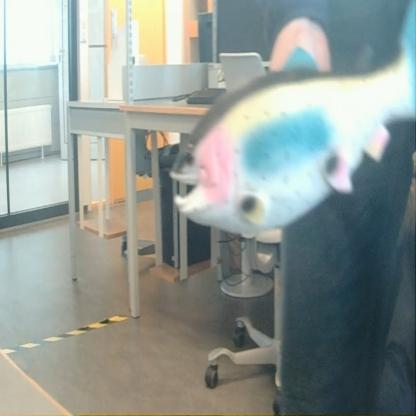rubberfish: (167, 0, 416, 246)
